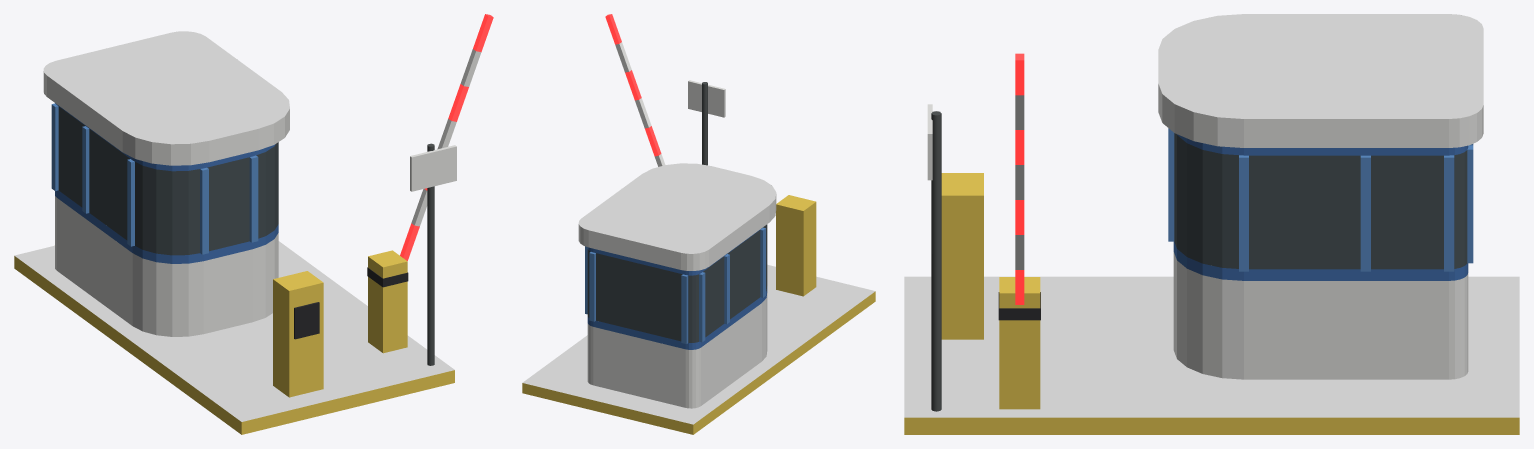
File: parking_booth.glb
3 views of the same model, side by side, from view 1: azimuth 30°, elevation 25°; view 2: azimuth 150°, elevation 25°; view 3: azimuth 270°, elevation 25° (orthographic). The views are drawn at different scales.
Parts seen in each view (by area): view 1: parking_booth; view 2: parking_booth; view 3: parking_booth.
Boxes of the visible parts, x1,y1,x2,y2 form: parking_booth: [14, 14, 493, 434]; parking_booth: [522, 14, 875, 434]; parking_booth: [904, 14, 1519, 434].
Size of the model in its own units: 3.57 by 3.71 by 4.8.
